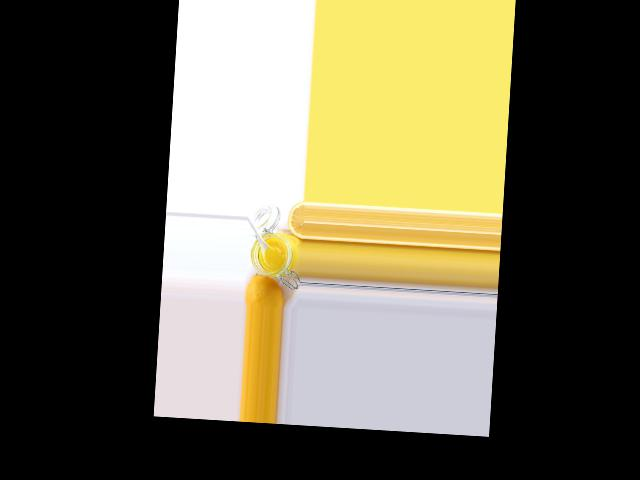lemon: (246, 272, 284, 307)
